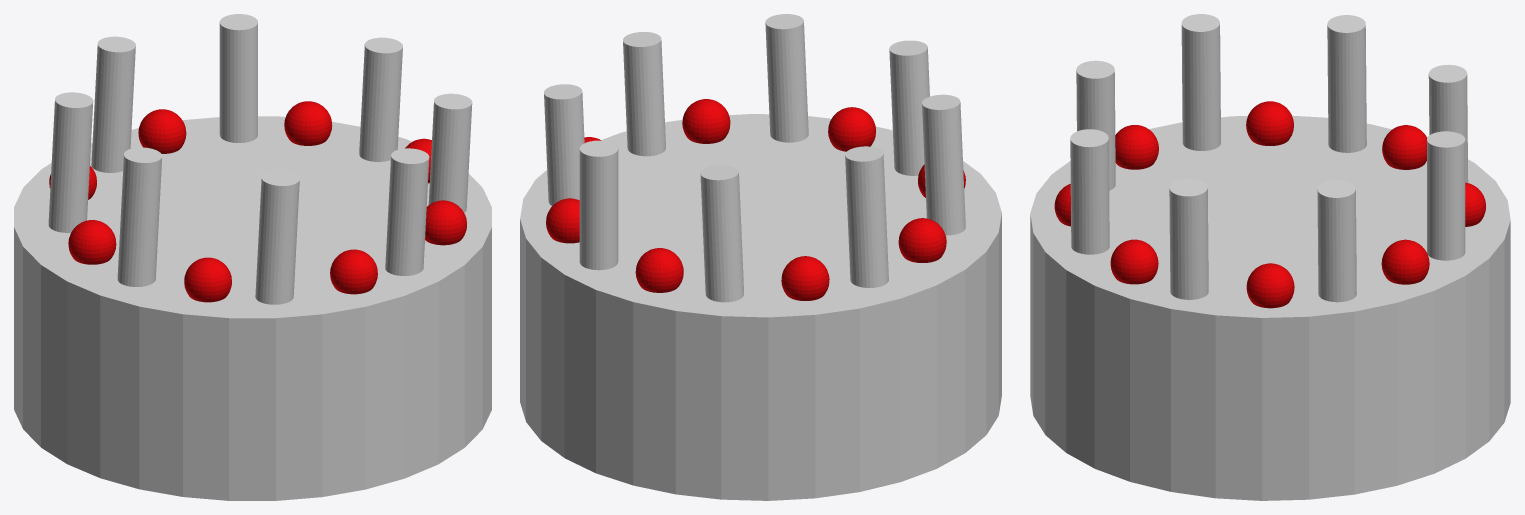
The model's file is cake-blender.glb.
3 views of the same model, side by side, from view 1: azimuth 30°, elevation 25°; view 2: azimuth 150°, elevation 25°; view 3: azimuth 270°, elevation 25° (orthographic).
Parts seen in each view (by area): view 1: Cylinder, Cylinder.007, Cylinder.003, Cylinder.002, Cylinder.006, Cylinder.001, Cylinder.008, Cylinder.005, Cylinder.004, Sphere2, Sphere2.001, Sphere2.003 (+3 smaller); view 2: Cylinder, Cylinder.003, Cylinder.006, Cylinder.007, Cylinder.001, Cylinder.008, Cylinder.004, Cylinder.002, Cylinder.005, Sphere2.001, Sphere2.002, Sphere1.002 (+3 smaller); view 3: Cylinder, Cylinder.003, Cylinder.007, Cylinder.001, Cylinder.008, Cylinder.005, Cylinder.004, Cylinder.002, Cylinder.006, Sphere1.002, Sphere1.001, Sphere1.003 (+5 smaller).
Part boxes in pixels (x1,y1,x2,y2): Cylinder: (14,116,491,500); Cylinder.007: (117,147,162,286); Cylinder.003: (48,92,93,232); Cylinder.002: (255,170,299,304); Cylinder.006: (91,36,135,172); Cylinder.001: (219,14,257,142); Cylinder.008: (385,148,429,275); Cylinder.005: (359,37,402,161); Cylinder.004: (428,93,472,212); Sphere2: (330,249,377,294); Sphere2.001: (68,220,116,264); Sphere2.003: (184,257,231,302); Cylinder: (520,114,1001,500); Cylinder.003: (845,146,888,287); Cylinder.006: (700,165,744,302); Cylinder.007: (922,94,965,235); Cylinder.001: (579,140,618,270); Cylinder.008: (765,14,808,142); Cylinder.004: (623,32,665,156); Cylinder.002: (889,40,929,175); Cylinder.005: (544,84,584,205); Sphere2.001: (898,218,946,262); Sphere2.002: (781,256,829,300); Sphere1.002: (682,99,730,143); Cylinder: (1030,115,1510,500); Cylinder.003: (1327,15,1366,152); Cylinder.007: (1181,14,1220,150); Cylinder.001: (1427,131,1465,260); Cylinder.008: (1070,129,1109,254); Cylinder.005: (1317,180,1356,302); Cylinder.004: (1169,178,1208,299); Cylinder.002: (1076,60,1115,190); Cylinder.006: (1428,64,1468,182); Sphere1.002: (1110,239,1158,284); Sphere1.001: (1246,263,1294,308); Sphere1.003: (1381,239,1429,284).
Size of the model in its own units: 2 by 1.41 by 2.
